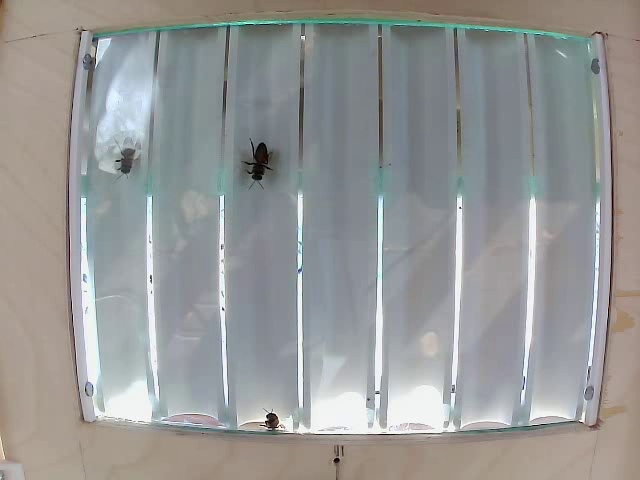bee: (111, 144, 154, 195), (241, 141, 278, 198), (256, 404, 289, 434)
